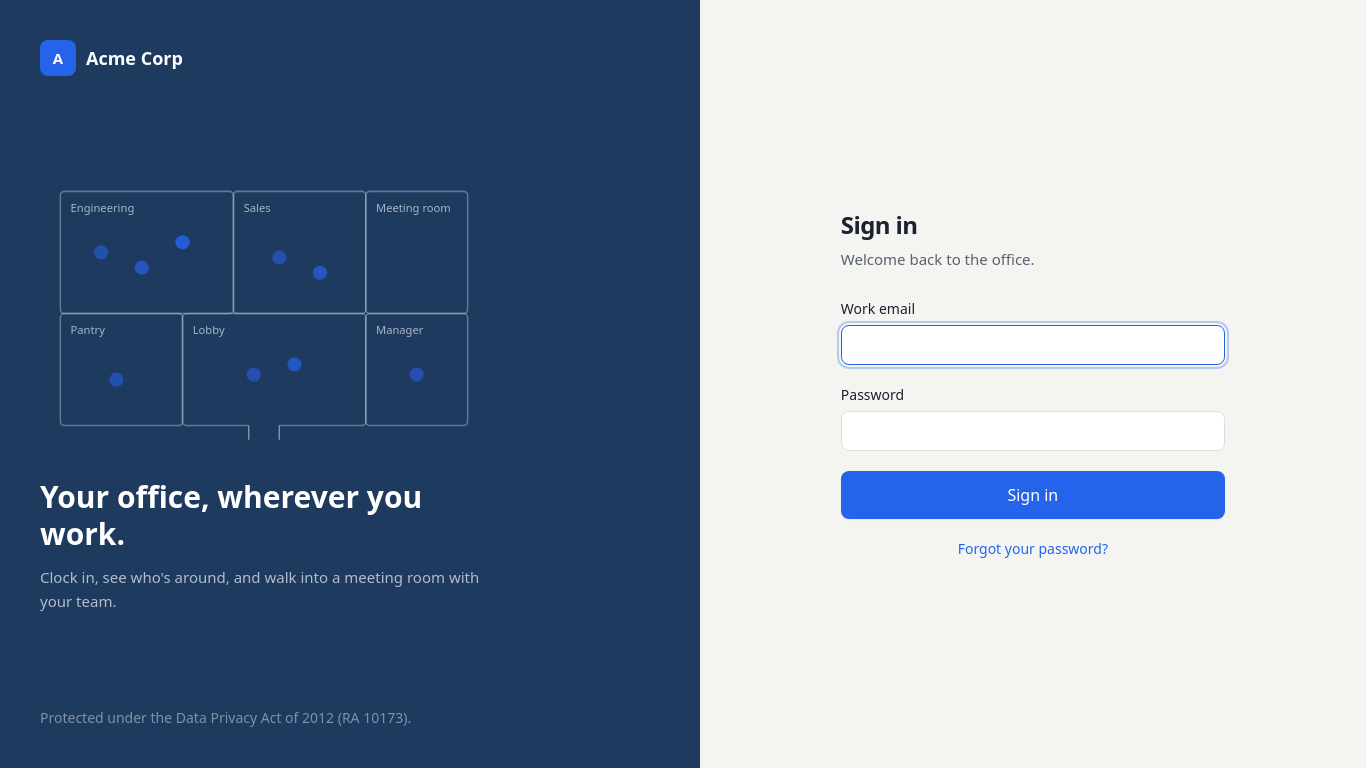
LoginPage › shows the server message for wrong credentials
Type "ana@acme.test" into the field labelled "Work email" at (1033, 345), box [841,325,1225,365]
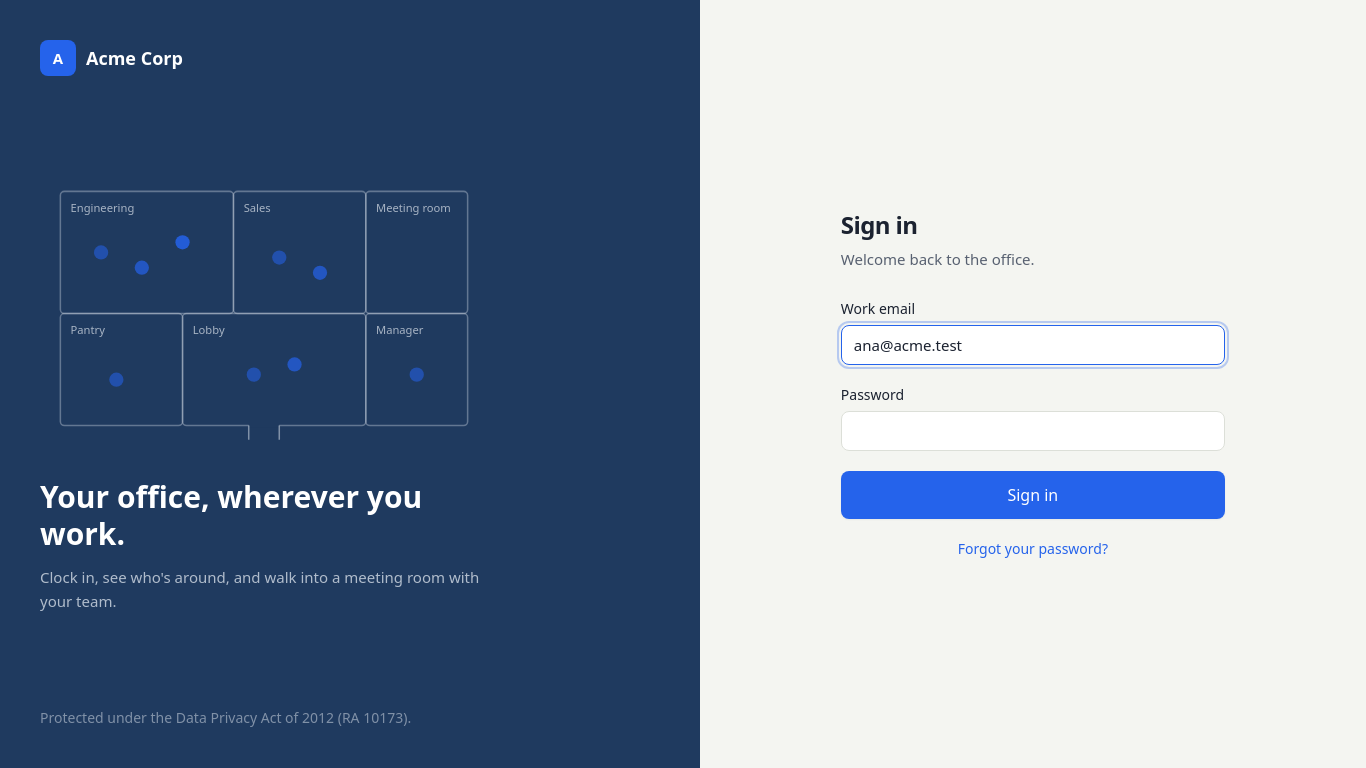
Type "nope" into the password field labelled "Password" at (1033, 431), box [841,411,1225,451]
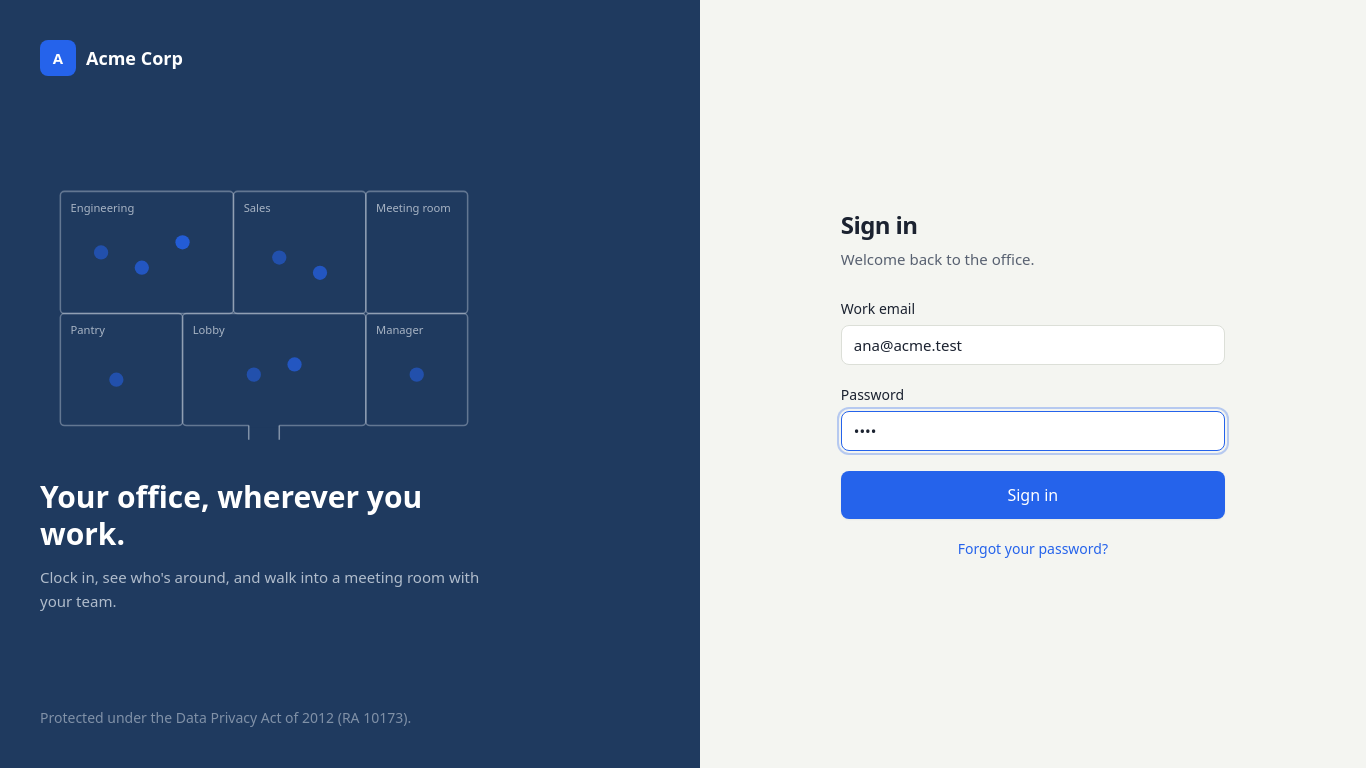
Click the button "Sign in" at (1033, 495), box [841,471,1225,519]
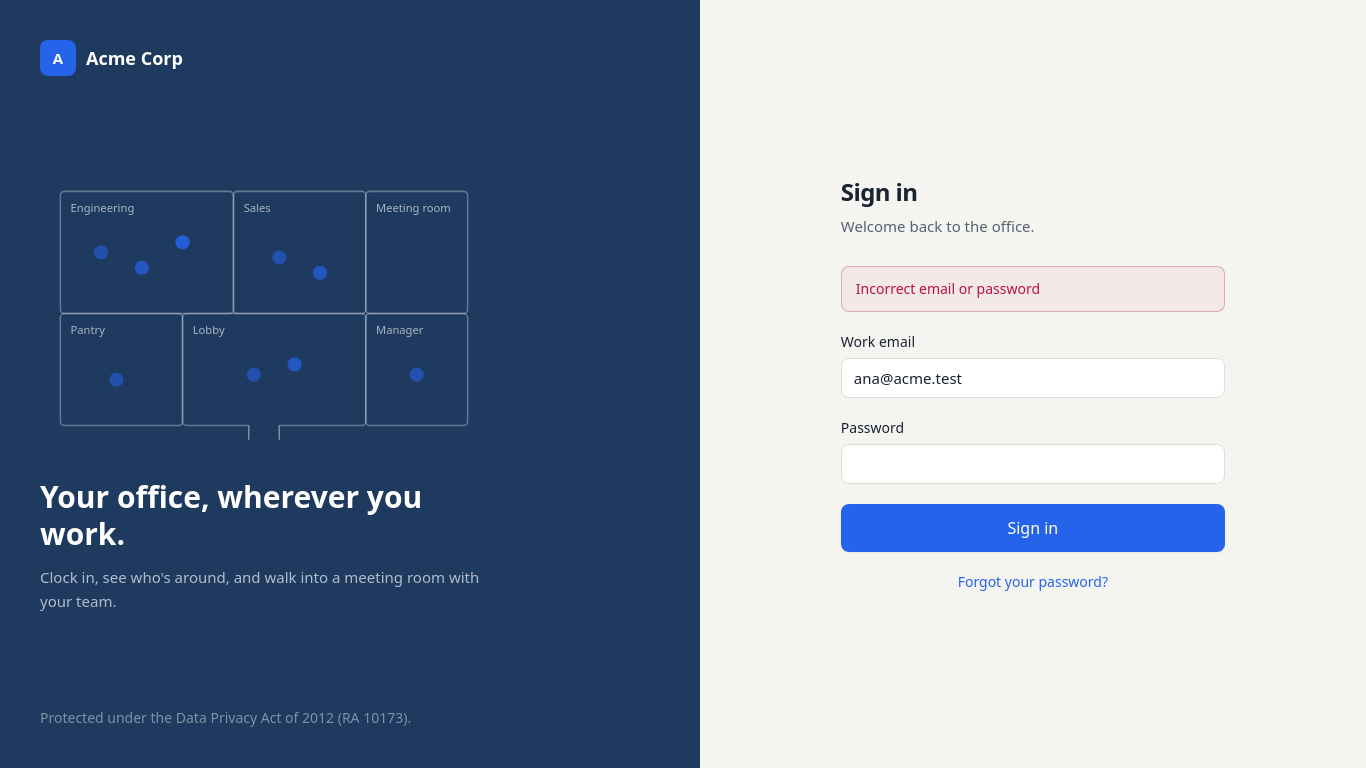
Now the message reads "Incorrect email or password", box [856,279,1040,298]
Now the password field labelled "Password" is empty, box [841,444,1225,484]
